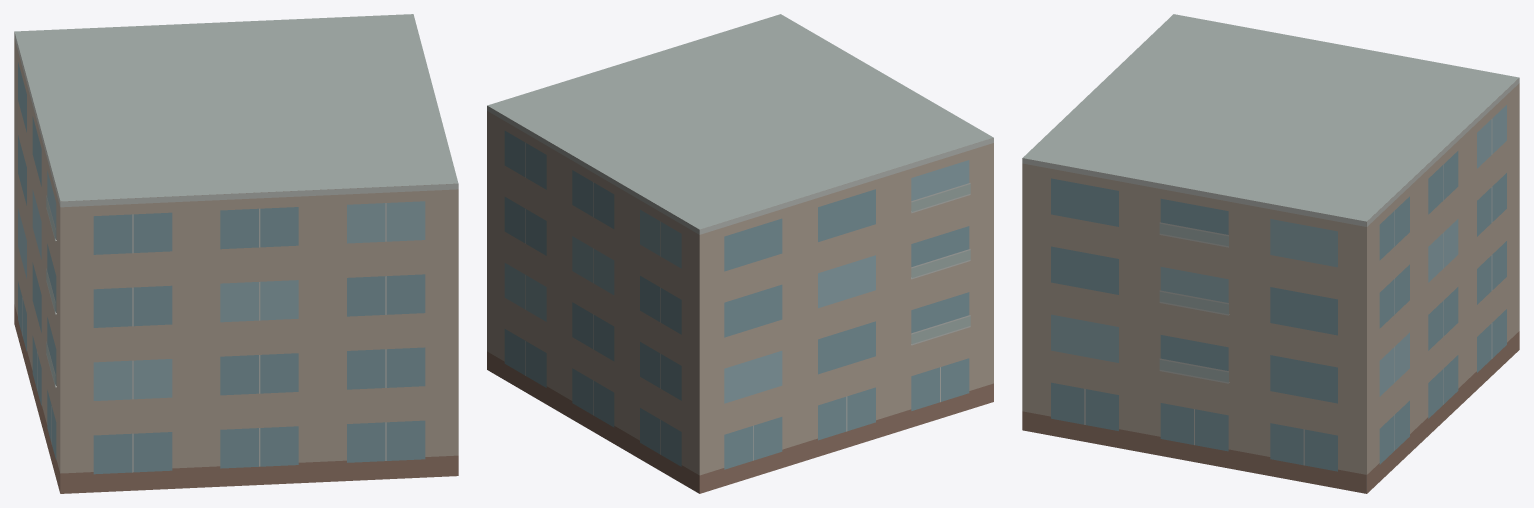
File: survey-upis-32982538.glb
3 views of the same model, side by side, from view 1: azimuth 30°, elevation 25°; view 2: azimuth 150°, elevation 25°; view 3: azimuth 270°, elevation 25° (orthographic). The views are drawn at different scales.
Parts seen in each view (by area): view 1: survey-upis-32982538.tmp; view 2: survey-upis-32982538.tmp; view 3: survey-upis-32982538.tmp.
Part boxes in pixels (left/top/right/bottom): survey-upis-32982538.tmp: left=14, top=14, right=458, bottom=493; survey-upis-32982538.tmp: left=487, top=14, right=993, bottom=493; survey-upis-32982538.tmp: left=1022, top=14, right=1519, bottom=493.
Bounding box in the file's own units: 19.96 × 12.2 × 20.19.
